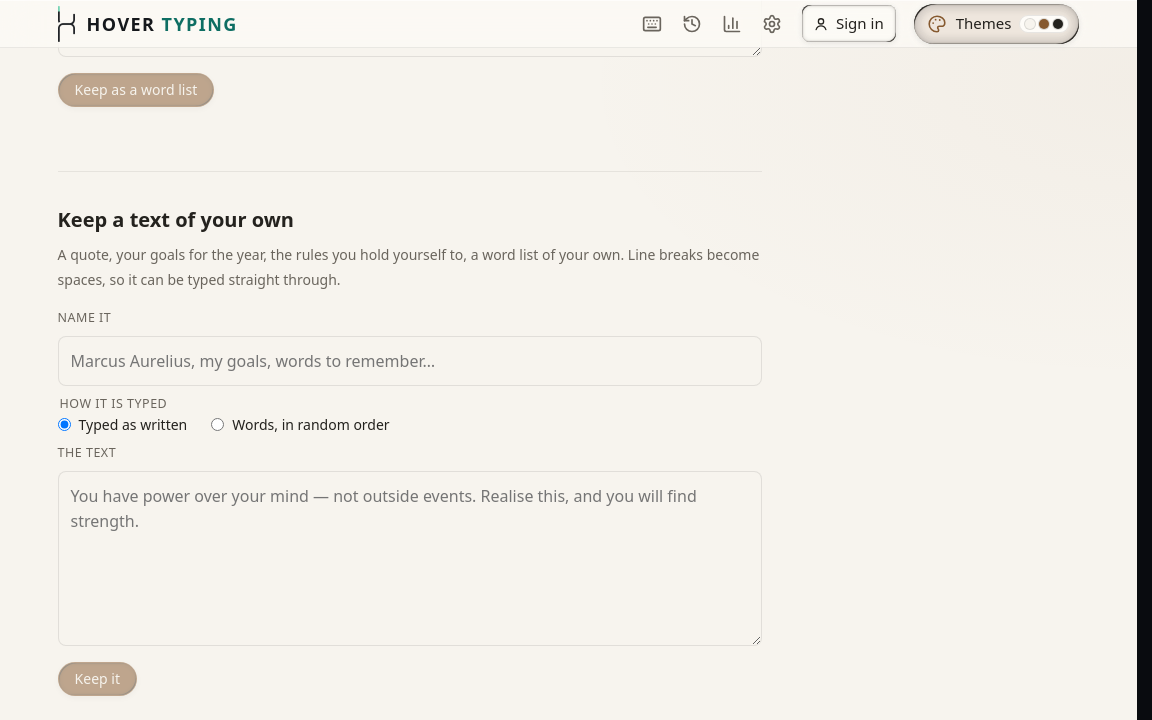
it: keeping a text of your own › edits one in place, rather than keeping a second copy
(page scrolled)
Step 1. Type "Goals" into the field labelled "Name it" → (410, 361), box 58,336 -> 762,386
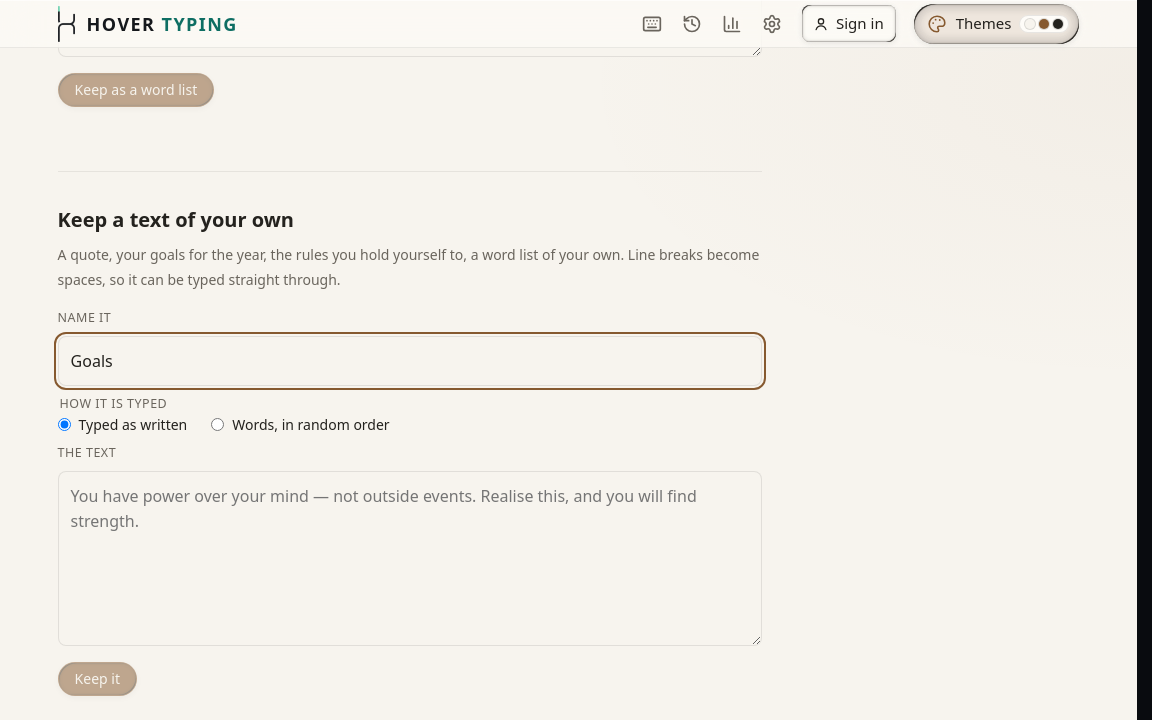
Step 2. Type "Run every morning without fail." into the text box labelled "The text" → (410, 558), box 58,471 -> 762,646
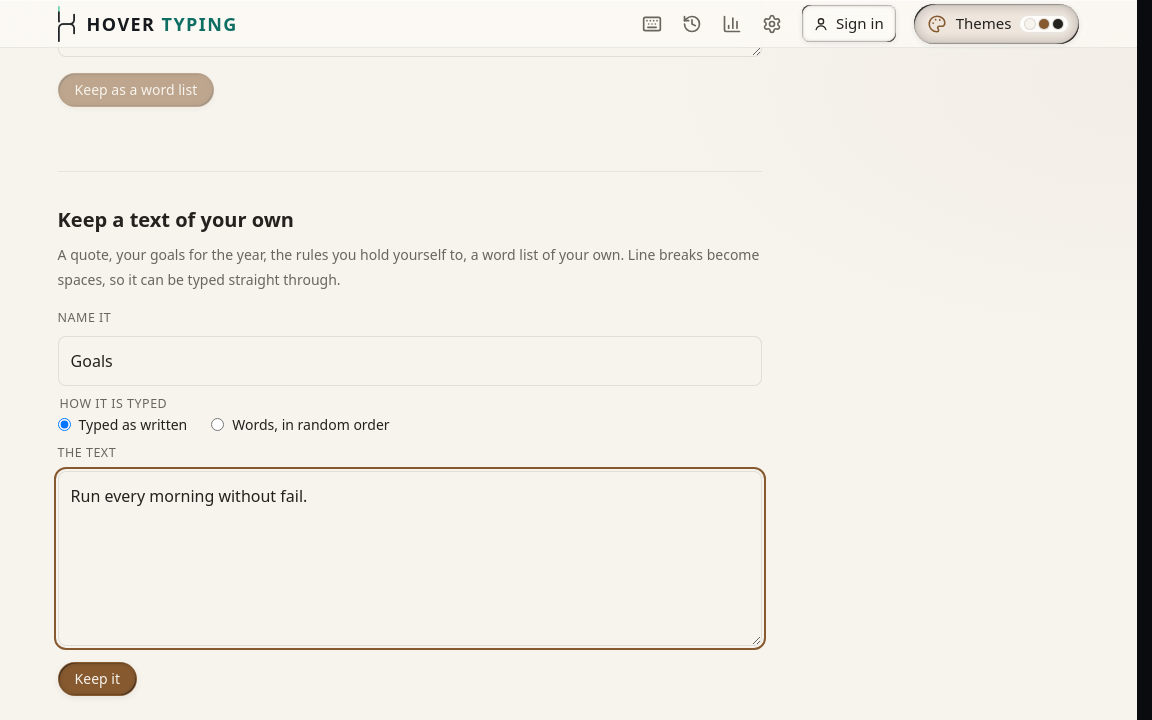
Step 3. Click the button "Keep it" → (97, 679), box 58,662 -> 137,696
(page scrolled)
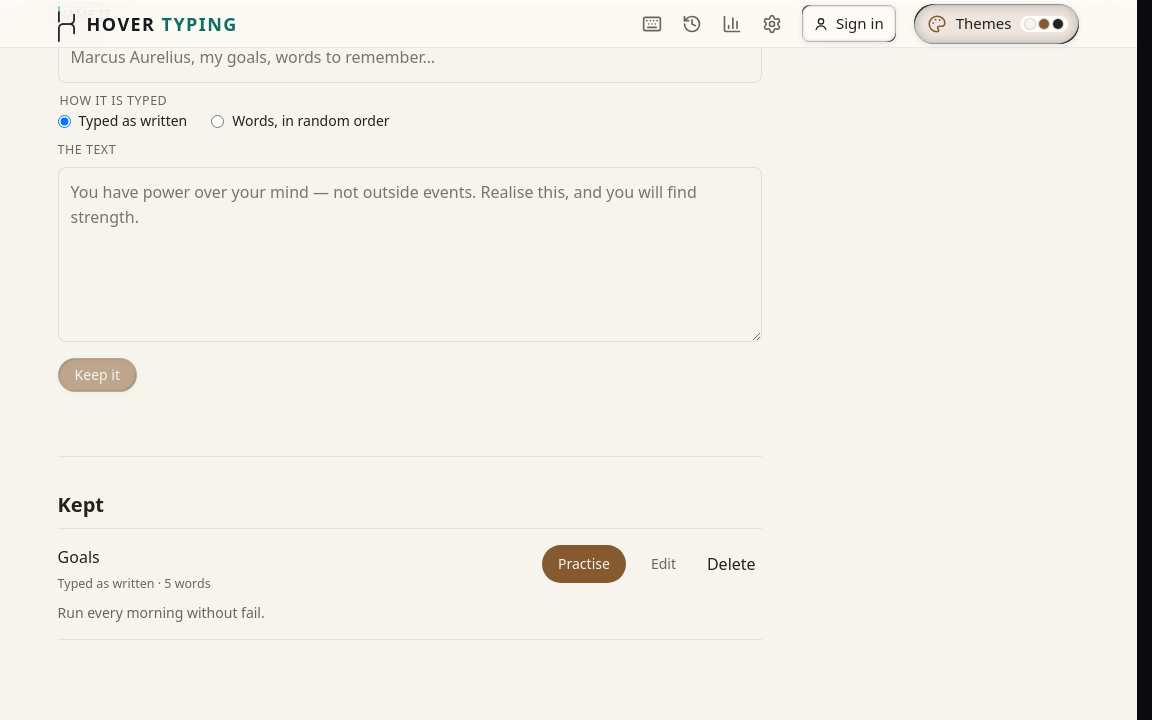
Step 4. Click the button "Edit" → (663, 564), box 634,547 -> 693,581
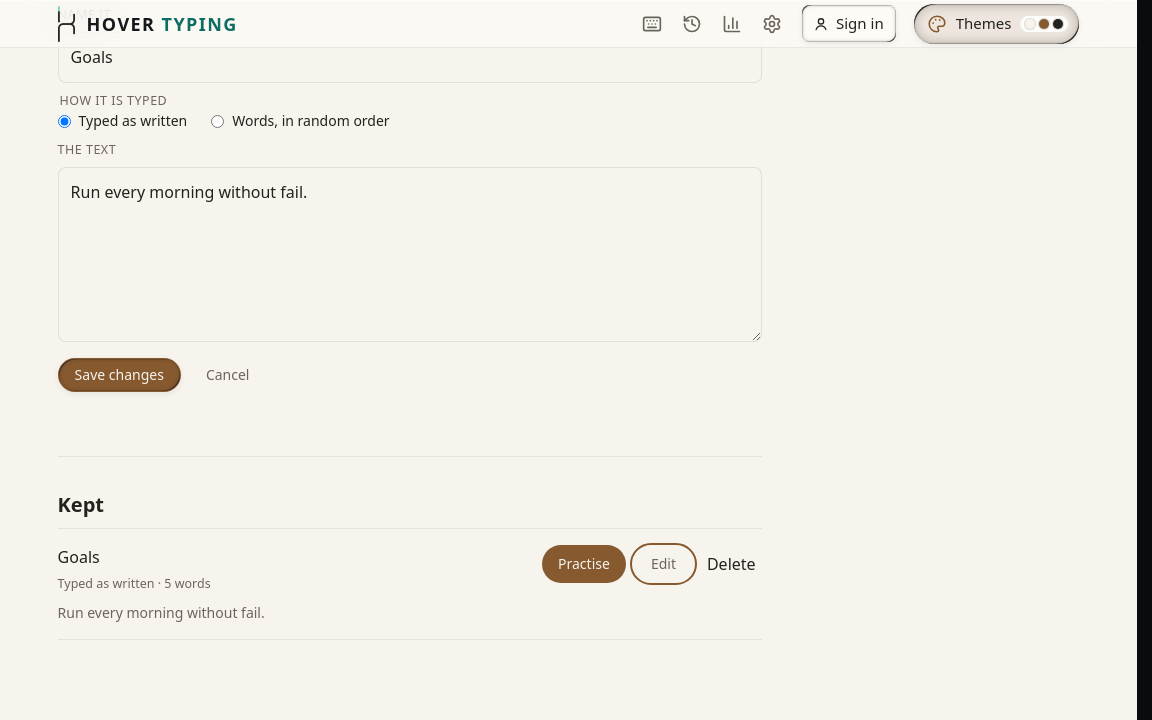
Step 5. Replace the text in the text box labelled "The text" with "Run every morning, and read every night." → (410, 255), box 58,168 -> 762,342
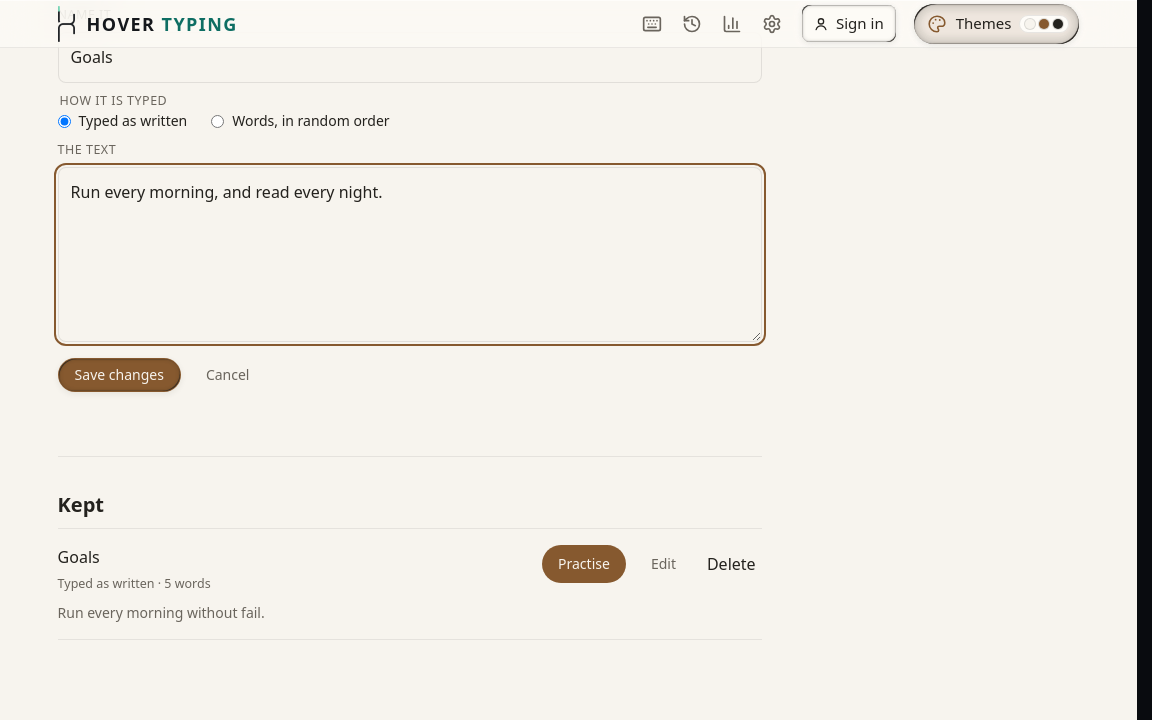
Step 6. Click the button "Save changes" → (119, 375), box 58,358 -> 181,392
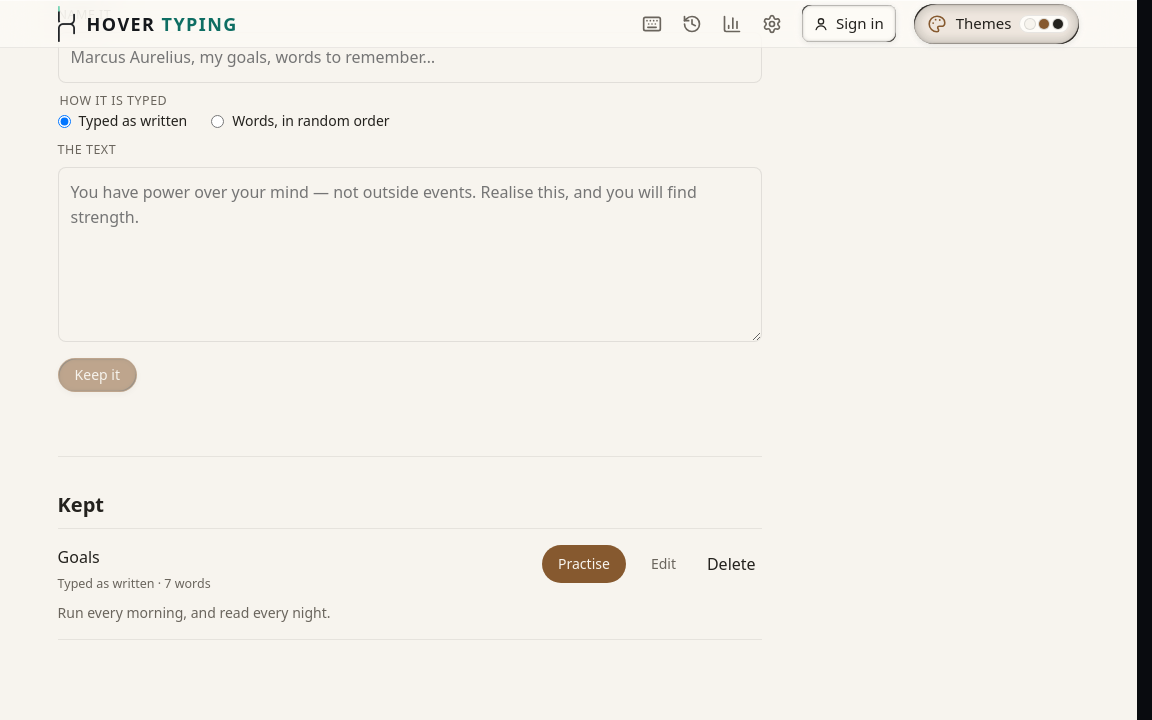
Expected: the text "Run every morning, and read every night." is shown, 58,602 -> 330,622
